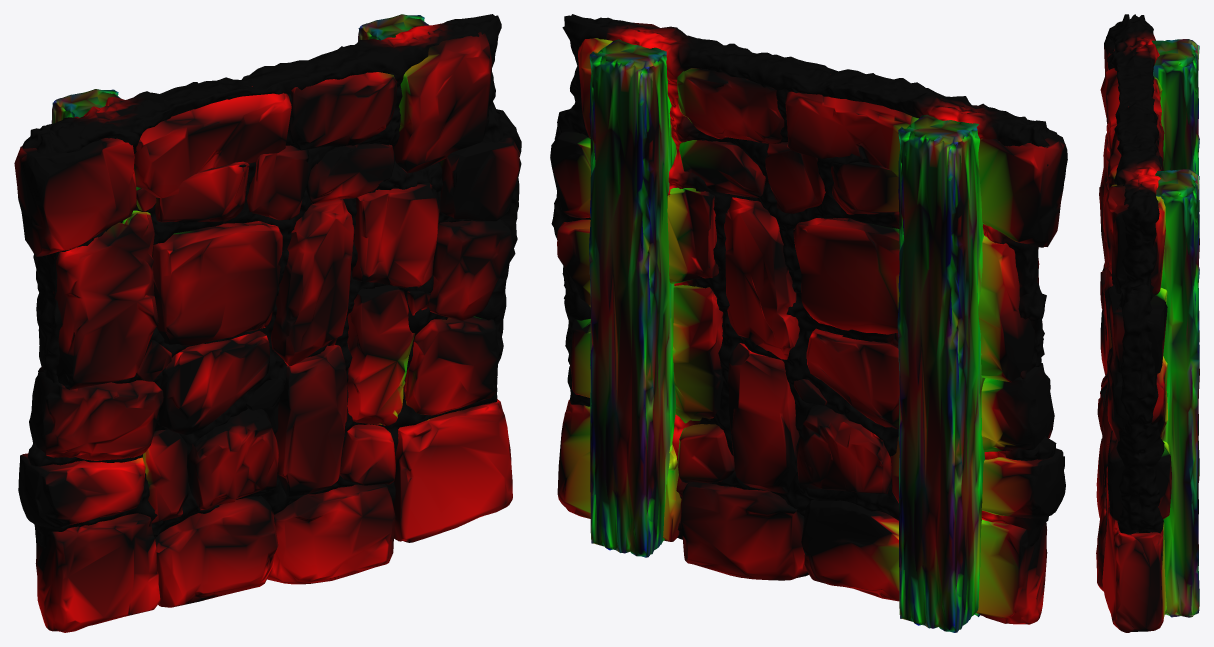
File: SM_Stone_Wall.fbx
The picture shows the model from 3 angles, left to right: view 1: azimuth 30°, elevation 25°; view 2: azimuth 150°, elevation 25°; view 3: azimuth 270°, elevation 25°; orthographic projection. The views are drawn at different scales.
Parts seen in each view (by area): view 1: SM_Stone_Wall_LOD0; view 2: SM_Stone_Wall_LOD0; view 3: SM_Stone_Wall_LOD0.
Boxes of the visible parts, bbox=[...] form: SM_Stone_Wall_LOD0: bbox=[14, 14, 521, 632]; SM_Stone_Wall_LOD0: bbox=[550, 14, 1067, 632]; SM_Stone_Wall_LOD0: bbox=[1096, 14, 1199, 632].
Size of the model in its own units: 326 by 67.31 by 321.
